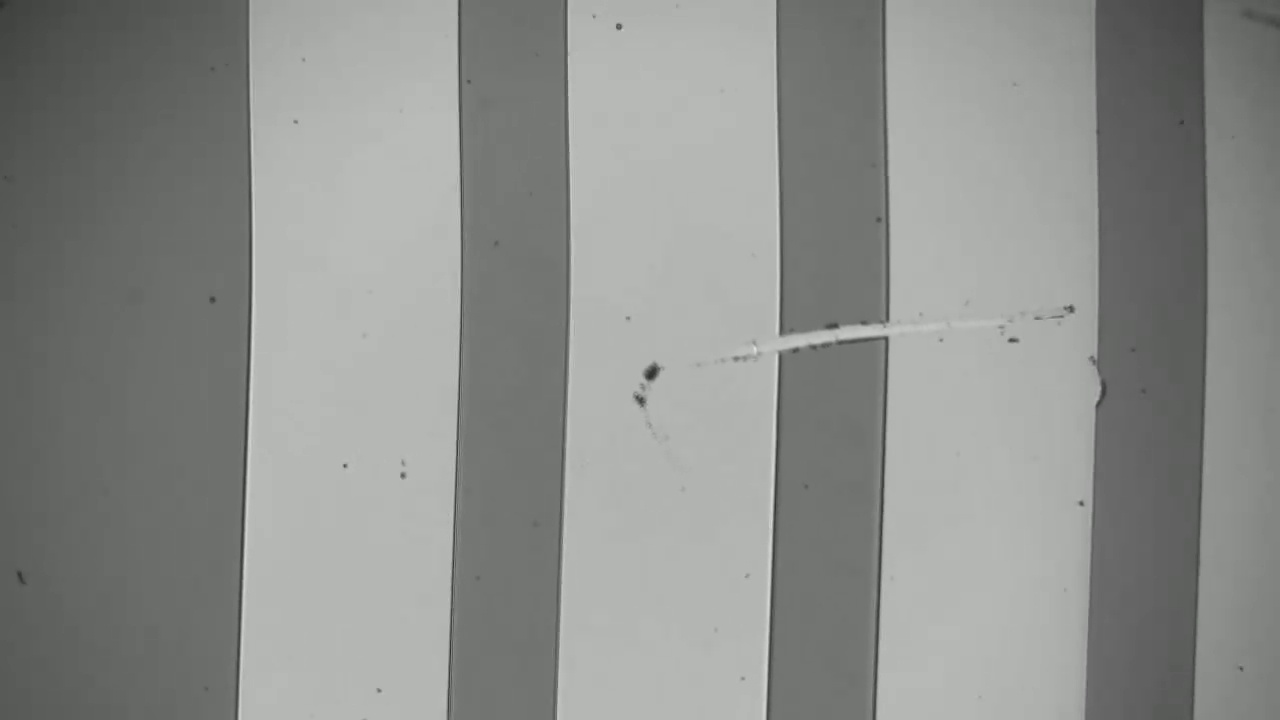Short_circuit: (744, 287, 910, 377)
